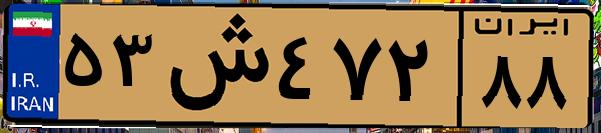2: (385, 28, 445, 110)
3: (110, 28, 158, 98)
4: (270, 28, 330, 110)
5: (57, 26, 110, 100)
7: (330, 28, 385, 110)
8: (475, 38, 525, 113), (525, 38, 570, 115)
ش: (158, 12, 270, 120)
